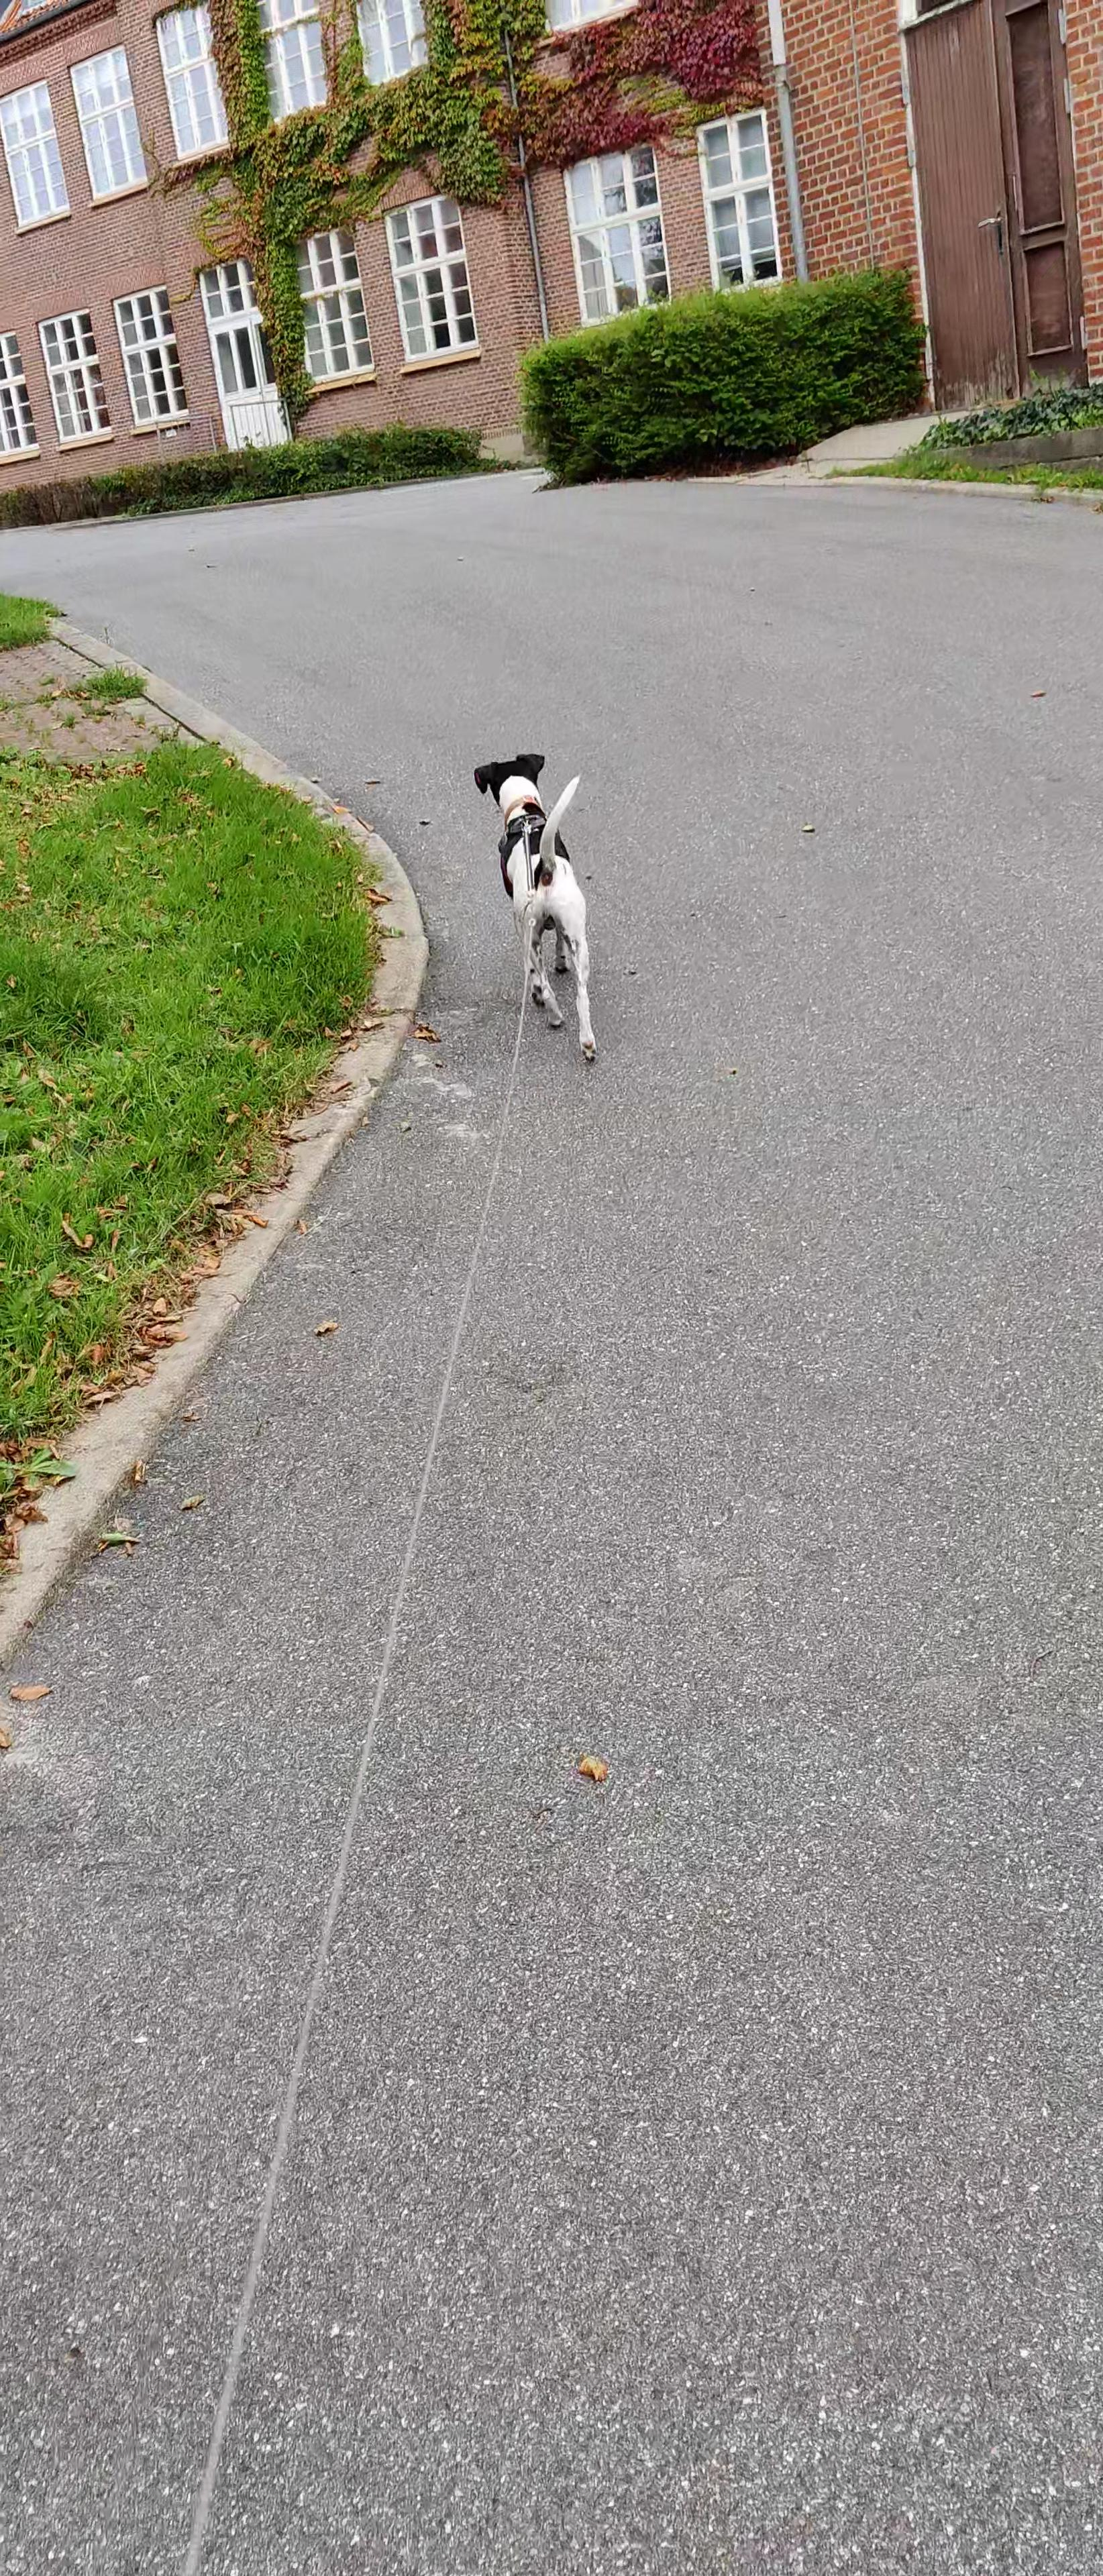Dog: (468, 751, 603, 1065)
